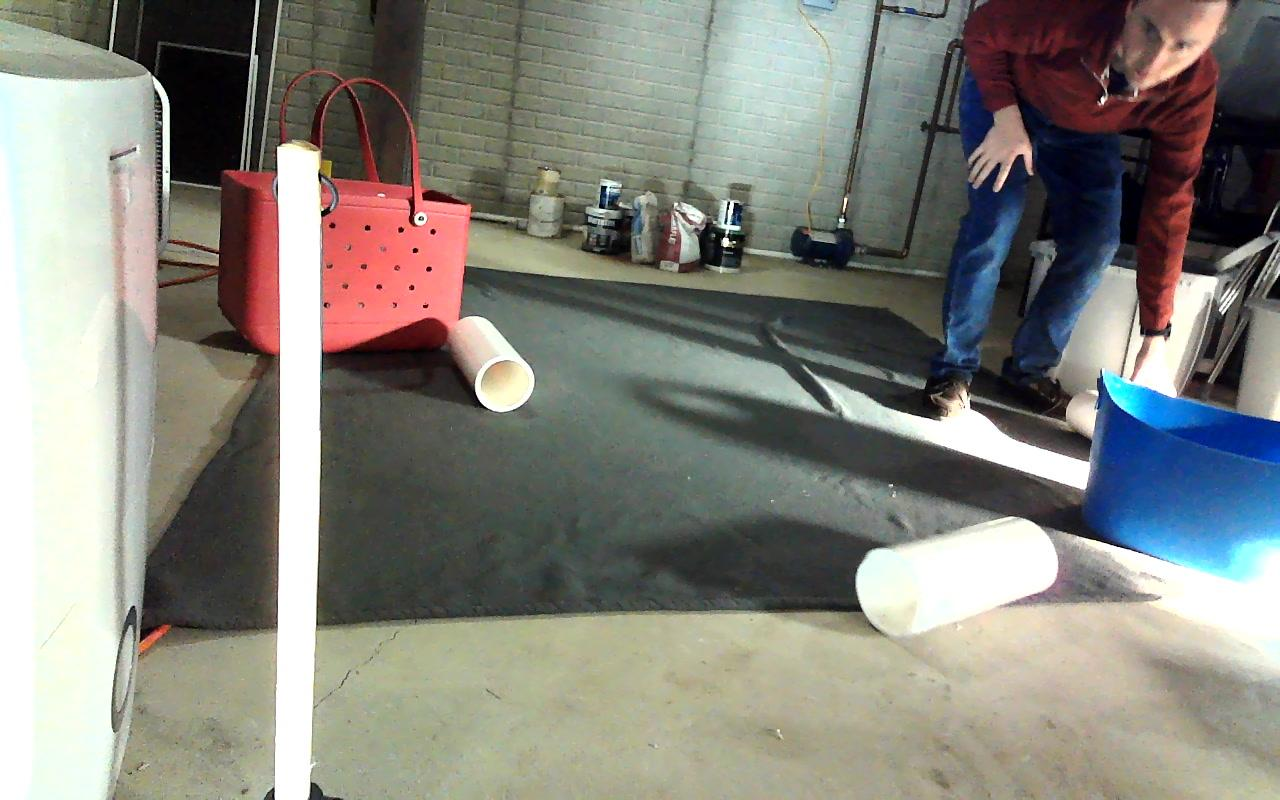coral: (857, 517, 1057, 636), (447, 316, 532, 411)
